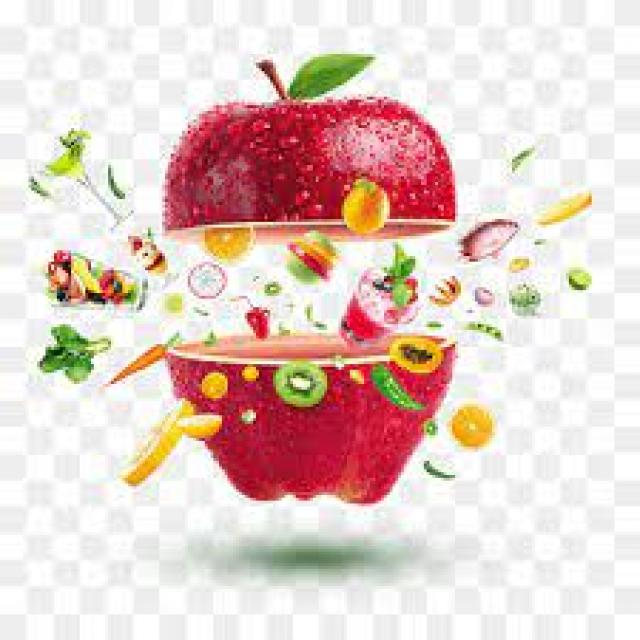Apple: (162, 332, 448, 502), (164, 97, 457, 238)
